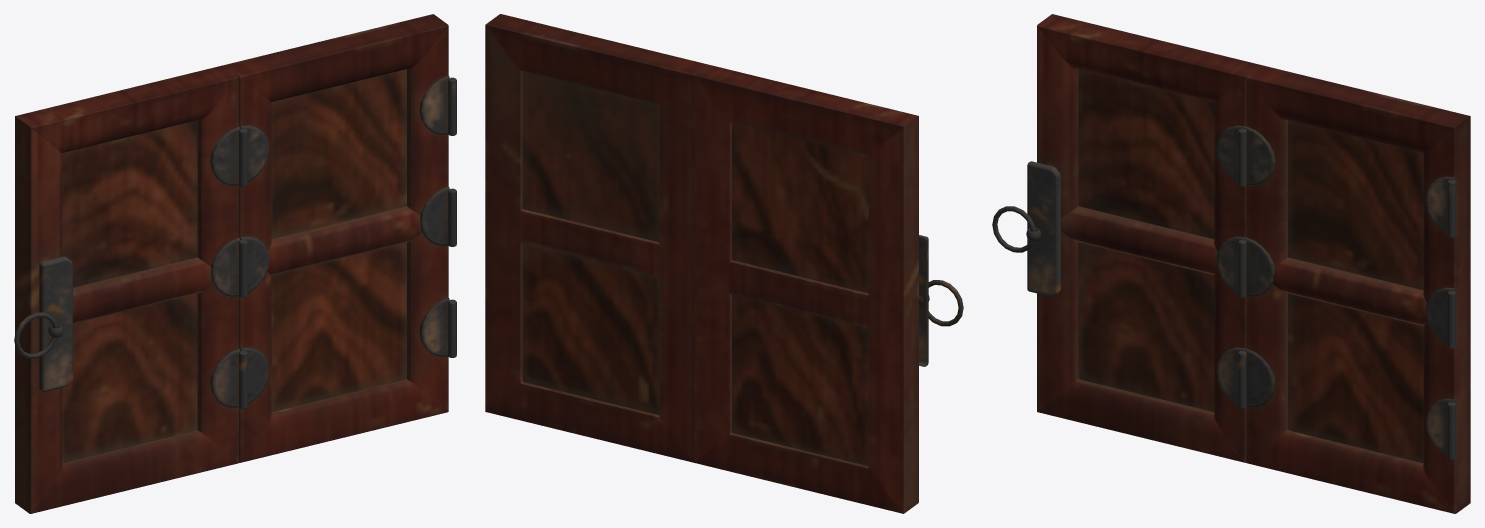
Rendered from SM_ThreetieredCupboard_door04.fbx.
The picture shows the model from 3 angles, left to right: view 1: azimuth 30°, elevation 25°; view 2: azimuth 150°, elevation 25°; view 3: azimuth 330°, elevation 25°; orthographic projection.
Visible parts, largest first — view 1: SM_ThreetieredCupboard_door04; view 2: SM_ThreetieredCupboard_door04; view 3: SM_ThreetieredCupboard_door04.
Boxes of the visible parts, x1=… form: SM_ThreetieredCupboard_door04: x1=14, y1=14, x2=456, y2=513; SM_ThreetieredCupboard_door04: x1=485, y1=14, x2=963, y2=513; SM_ThreetieredCupboard_door04: x1=992, y1=14, x2=1470, y2=513.
Size of the model in its own units: 49.33 by 40.33 by 6.3.
Materials: 1 (1 with a texture image).
